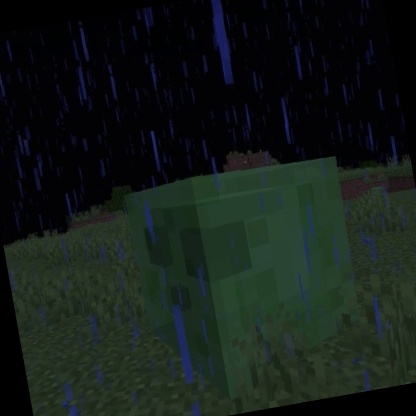slime: (116, 146, 382, 416)
